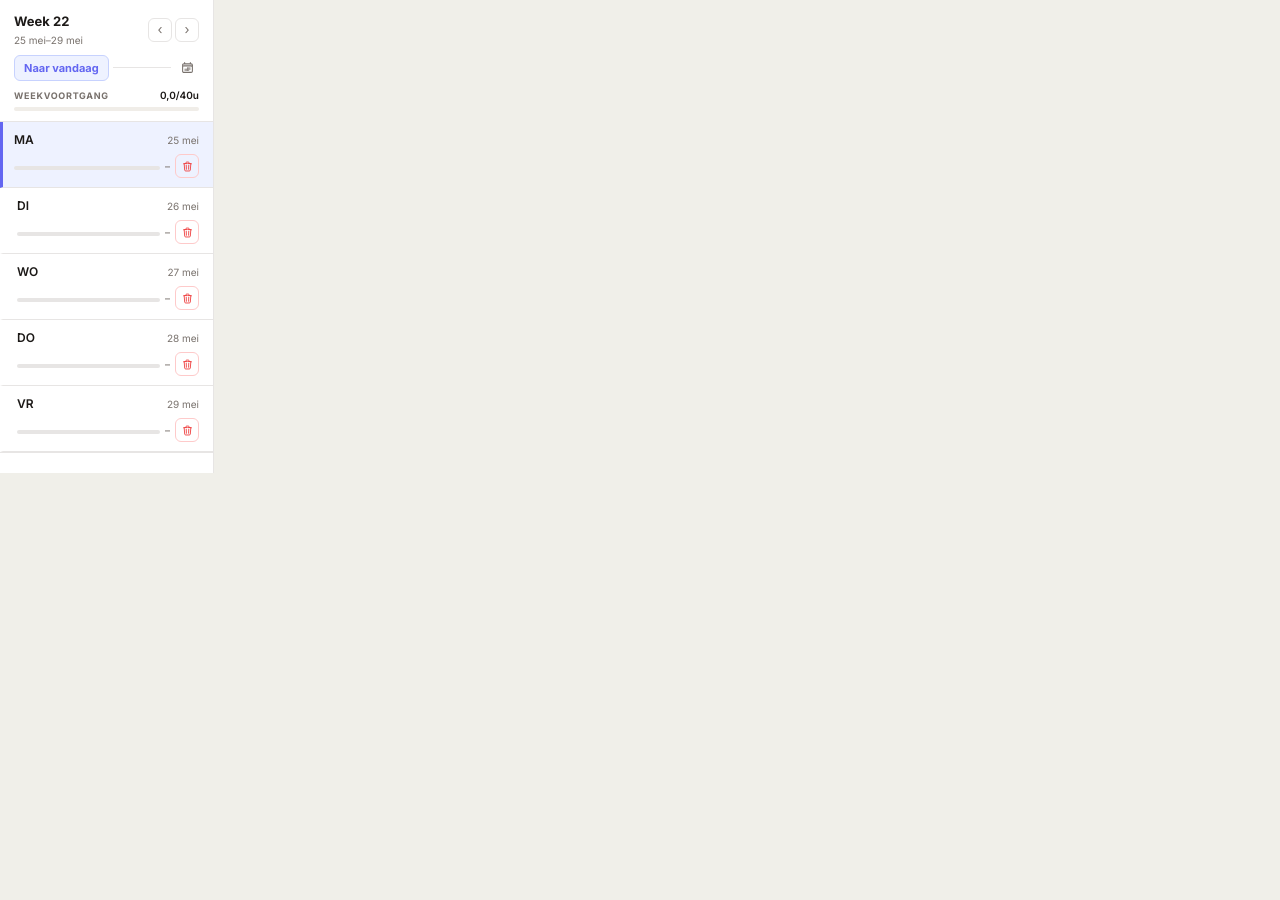
Test: WeekDayList › cancels the clear-day confirm dialog
Click the button titled "Wis 2 LLM-blok" below "MA" at (187, 166), box [175,154,199,178]
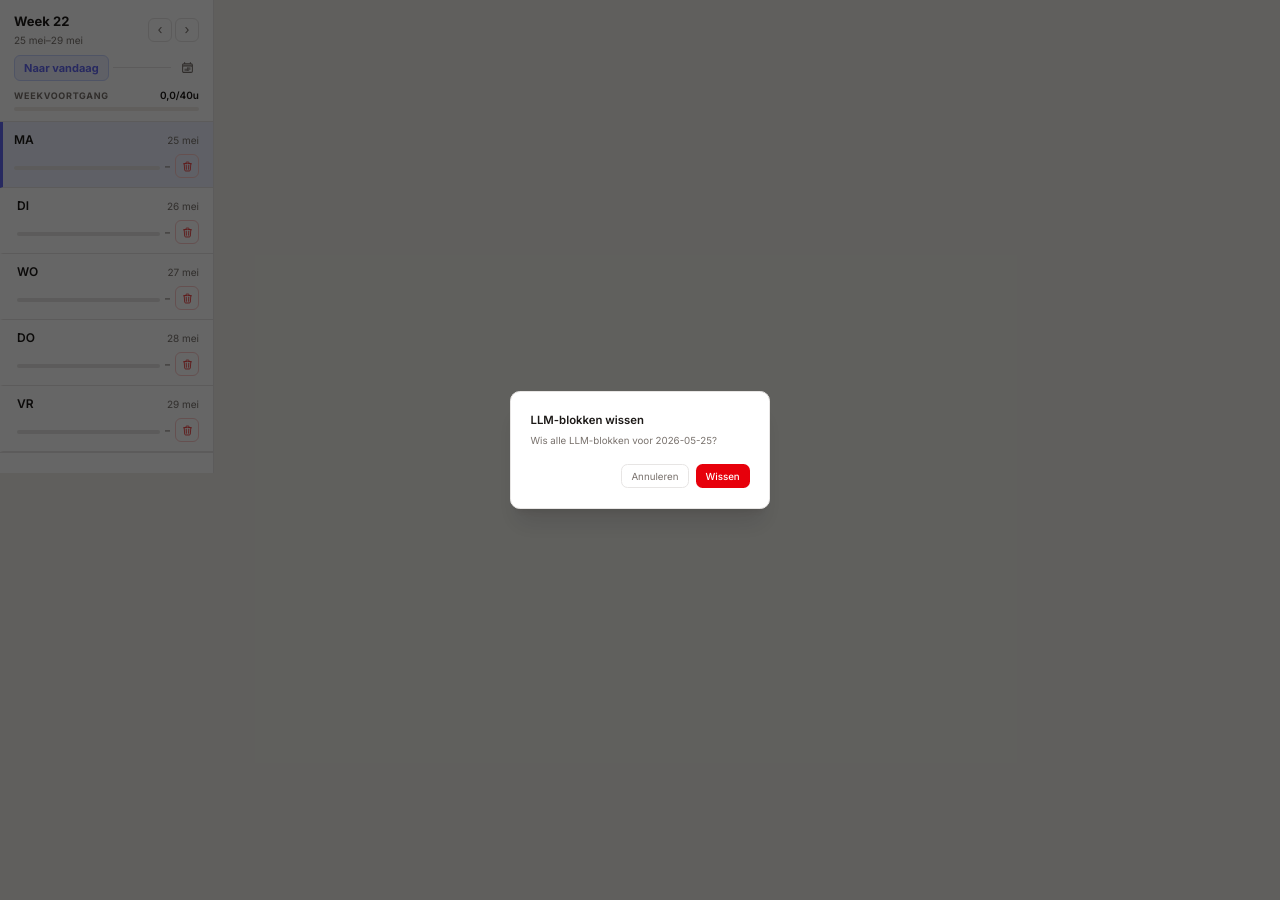
Click the button "Annuleren" at (655, 476), box [621,464,689,488]
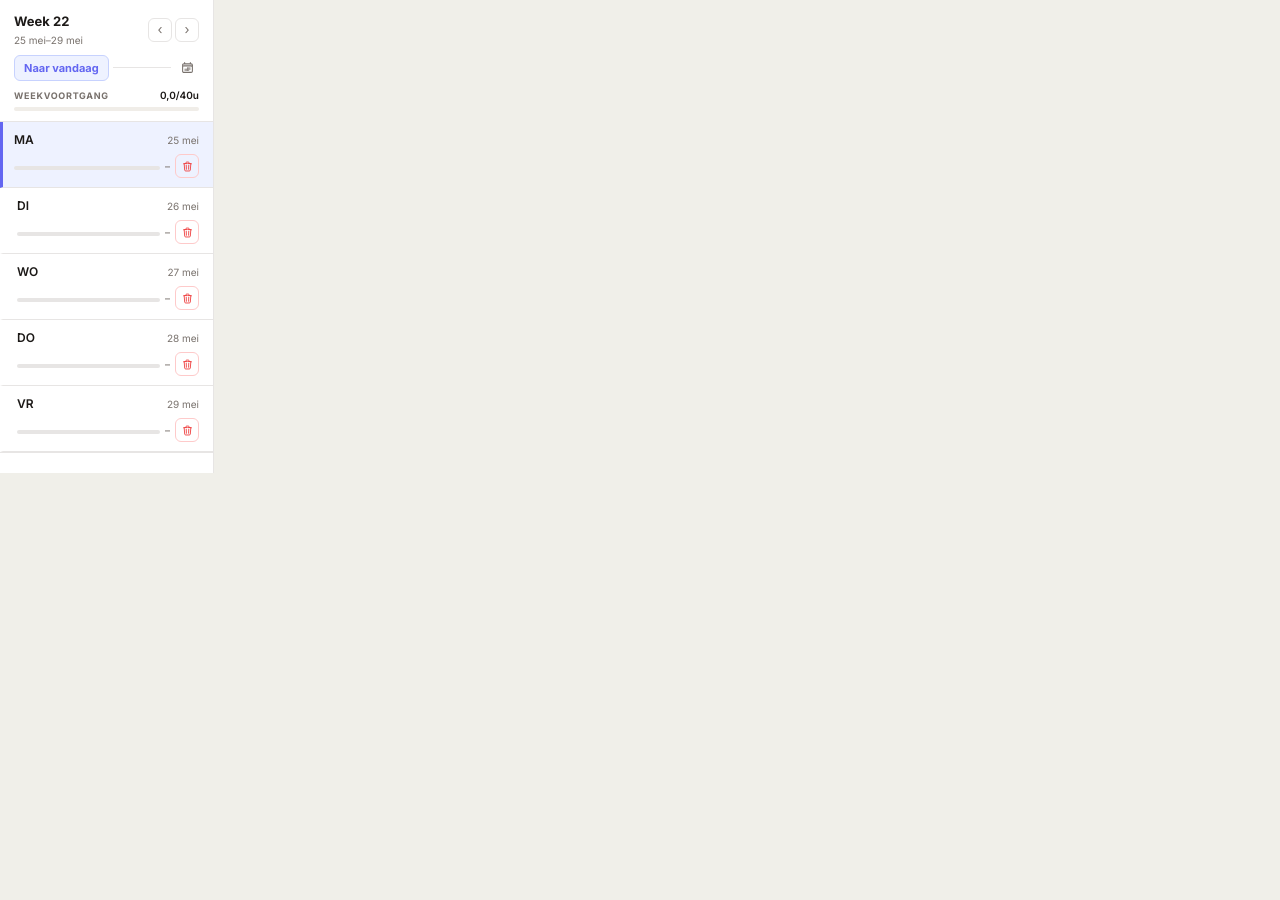
Check: the heading "LLM-blokken wissen" is gone
